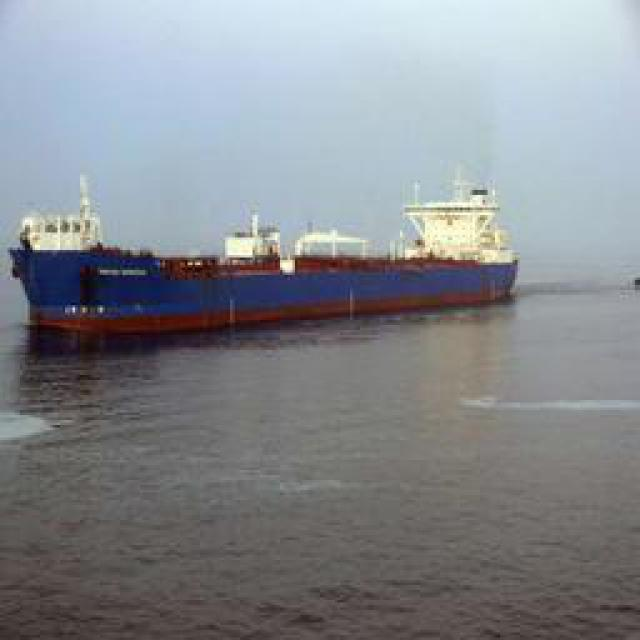Ship: (7, 181, 520, 329)
